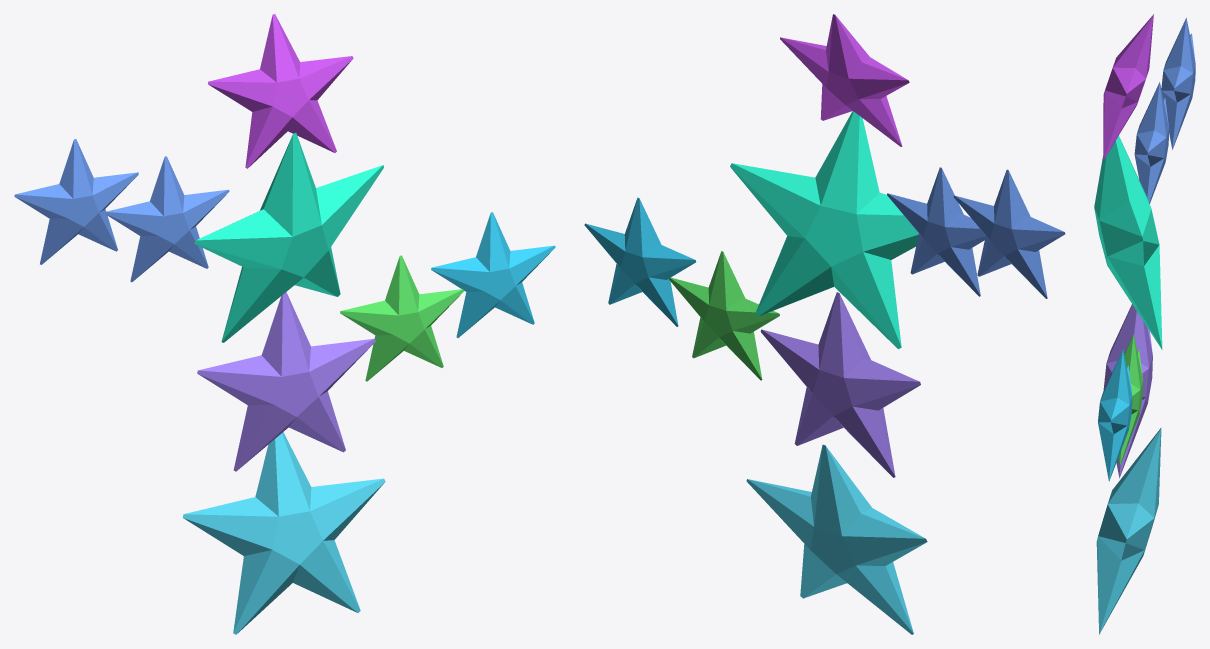
Rendered from 023_StarFish.fbx.
3 renders of one model, left to right at view 1: azimuth 30°, elevation 25°; view 2: azimuth 150°, elevation 25°; view 3: azimuth 270°, elevation 25°, orthographic. The views are drawn at different scales.
Visible parts, largest first — view 1: starfish3; view 2: starfish3; view 3: starfish3.
Part boxes in pixels (x1,y1,x2,y2): starfish3: (14, 14, 555, 634); starfish3: (584, 14, 1065, 634); starfish3: (1094, 14, 1195, 634).
Size of the model in its own units: 88.36 by 100 by 15.54.
